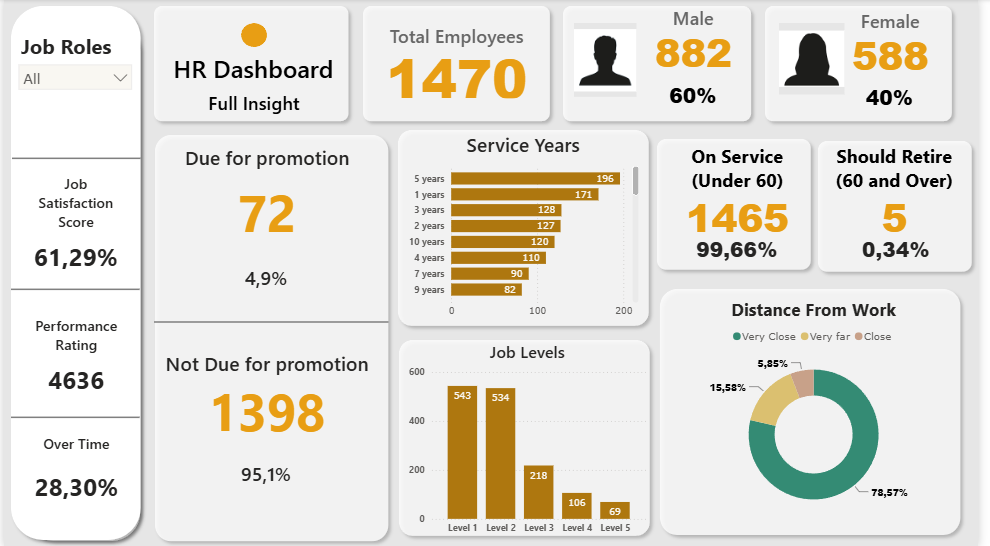

The page's visual inventory and layout, read from the dashboard file:
{"tool":"powerbi","page":{"name":"Page 1","canvas":[1280,720],"ordinal":0},"visuals":[{"type":"shape","box":[18.5,21.8,169.7,698.8],"z":0},{"type":"shape","box":[0,0,188.6,719.8],"z":1000},{"type":"shape","box":[188.1,0,273.8,169.7],"z":2000},{"type":"shape","box":[461.9,0,263.7,169.7],"z":3000},{"type":"shape","box":[991.1,0,263.7,169.7],"z":4000},{"type":"shape","box":[725.7,0,265.4,169.7],"z":5000},{"type":"shape","box":[188.6,169.3,324.8,551.9],"z":6000},{"type":"shape","box":[508.3,162.8,347.7,275.5],"z":7000},{"type":"shape","box":[509.7,438.3,347.7,275.5],"z":8000},{"type":"shape","box":[849.2,174.8,220.2,189.9],"z":9000},{"type":"shape","box":[853.3,371.6,412.9,341.3],"z":10000},{"type":"textbox","box":[213.3,64.7,229.8,60.6],"z":11000},{"type":"textbox","box":[256,114.2,144.5,49.5],"z":12000},{"type":"shape","box":[311.1,31.7,34.4,31.7],"z":13000},{"type":"card","title":"Total Employees","fields":{"Values":["All Measure.Total Emp"]},"box":[493.9,31.9,201.6,104.1],"z":14000},{"type":"card","title":"Male","fields":{"Values":["All Measure.Male"]},"box":[831.5,8.4,147.8,87.3],"z":15000},{"type":"card","title":"Total Males","fields":{"Values":["All Measure.% male"]},"box":[858.4,99.1,94.1,57.1],"z":16000},{"type":"card","title":"Female","fields":{"Values":["All Measure.Female"]},"box":[1090.1,11.7,147.8,87.3],"z":17000},{"type":"card","title":"Total Males","fields":{"Values":["All Measure.% female"]},"box":[1122,100.7,82.3,57.1],"z":18000},{"type":"image","box":[1018,31.9,85.7,94.1],"z":19000},{"type":"image","box":[749.2,31.9,82.3,97.4],"z":20000},{"type":"cardVisual","fields":{"Data":["All Measure.% Due for promotion"]},"box":[290.4,323.4,108.7,81.2],"z":21000},{"type":"cardVisual","title":"Due for promotion","fields":{"Data":["All Measure.Due for Promotion"]},"box":[194.1,189.9,302.8,140.4],"z":22000},{"type":"cardVisual","fields":{"Data":["All Measure.% Not due"]},"box":[290.4,580.8,108.7,81.2],"z":23000},{"type":"shape","box":[196.8,381.2,308.3,86.7],"z":23500},{"type":"cardVisual","title":"Not Due for promotion","fields":{"Data":["All Measure.Not Due"]},"box":[194.1,461.1,302.8,122.5],"z":24000},{"type":"clusteredBarChart","title":"Service Years","fields":{"Category":["HR Analytics Data.Sevice Year"],"Y":["All Measure.Total Emp"]},"box":[525.8,173.1,313.3,253.3],"z":26000},{"type":"columnChart","title":"Job Levels","fields":{"Y":["All Measure.Total Emp"],"Category":["HR Analytics Data.Job Levels"]},"box":[527.2,448.1,321.7,265],"z":27000},{"type":"card","title":"On Service (Under 60)","fields":{"Values":["All Measure.On Service"]},"box":[867.1,188.6,192.7,126.6],"z":28000},{"type":"shape","box":[1060.2,177.9,220.2,189.9],"z":29000},{"type":"card","title":"Should Retire (60 and Over)","fields":{"Values":["All Measure.Count Must Retire"]},"box":[1073.5,188.6,192.7,126.6],"z":30000},{"type":"card","fields":{"Values":["All Measure.% count On Service"]},"box":[894.6,295.9,136.3,68.8],"z":31000},{"type":"card","fields":{"Values":["All Measure.% Must Retire"]},"box":[1103.8,295.9,136.3,68.8],"z":32000},{"type":"donutChart","title":"Distance From Work","fields":{"Category":["HR Analytics Data.Distance Status"],"Y":["All Measure.Total Emp"]},"box":[886.4,392.3,353.7,300],"z":33000},{"type":"slicer","fields":{"Values":["HR Analytics Data.JobRole"]},"box":[9.6,38.5,169.3,150],"z":34000},{"type":"card","title":"Job Satisfaction Score","fields":{"Values":["All Measure.% Satisfaction"]},"box":[23.4,229.8,141.8,141.8],"z":35000},{"type":"card","title":"Performance Rating","fields":{"Values":["Sum(HR Analytics Data.PerformanceRating)"]},"box":[28.9,404.6,132.1,137.6],"z":36000},{"type":"card","title":"Over Time","fields":{"Values":["All Measure.% Overtime"]},"box":[11.8,559.7,166.9,132.7],"z":37000},{"type":"shape","box":[9.6,510.6,169.3,77.1],"z":37500},{"type":"shape","box":[11,170.7,169.3,77.1],"z":37750},{"type":"shape","box":[9.6,342.7,169.3,77.1],"z":38000}]}

Visuals, with their boxes in screenshot pixels (x1, y1, x2, y2), scaled from the page's 1280x720 canvas onto the 990x546 screenshot:
shape: BBox(14, 17, 146, 545)
shape: BBox(0, 0, 146, 545)
shape: BBox(145, 0, 357, 129)
shape: BBox(357, 0, 561, 129)
shape: BBox(767, 0, 971, 129)
shape: BBox(561, 0, 767, 129)
shape: BBox(146, 128, 397, 545)
shape: BBox(393, 123, 662, 332)
shape: BBox(394, 332, 663, 541)
shape: BBox(657, 133, 827, 277)
shape: BBox(660, 282, 979, 541)
textbox: BBox(165, 49, 343, 95)
textbox: BBox(198, 87, 310, 124)
shape: BBox(241, 24, 267, 48)
"Total Employees" card: BBox(382, 24, 538, 103)
"Male" card: BBox(643, 6, 757, 73)
"Total Males" card: BBox(664, 75, 737, 118)
"Female" card: BBox(843, 9, 957, 75)
"Total Males" card: BBox(868, 76, 931, 120)
image: BBox(787, 24, 854, 96)
image: BBox(579, 24, 643, 98)
cardVisual - All Measure.% Due for promotion: BBox(225, 245, 309, 307)
"Due for promotion" cardVisual: BBox(150, 144, 384, 250)
cardVisual - All Measure.% Not due: BBox(225, 440, 309, 502)
shape: BBox(152, 289, 391, 355)
"Not Due for promotion" cardVisual: BBox(150, 350, 384, 443)
"Service Years" clusteredBarChart: BBox(407, 131, 649, 323)
"Job Levels" columnChart: BBox(408, 340, 657, 541)
"On Service (Under 60)" card: BBox(671, 143, 820, 239)
shape: BBox(820, 135, 989, 279)
"Should Retire (60 and Over)" card: BBox(830, 143, 979, 239)
card - All Measure.% count On Service: BBox(692, 224, 797, 277)
card - All Measure.% Must Retire: BBox(854, 224, 959, 277)
"Distance From Work" donutChart: BBox(686, 297, 959, 525)
slicer - HR Analytics Data.JobRole: BBox(7, 29, 138, 143)
"Job Satisfaction Score" card: BBox(18, 174, 128, 282)
"Performance Rating" card: BBox(22, 307, 125, 411)
"Over Time" card: BBox(9, 424, 138, 525)
shape: BBox(7, 387, 138, 446)
shape: BBox(9, 129, 139, 188)
shape: BBox(7, 260, 138, 318)
